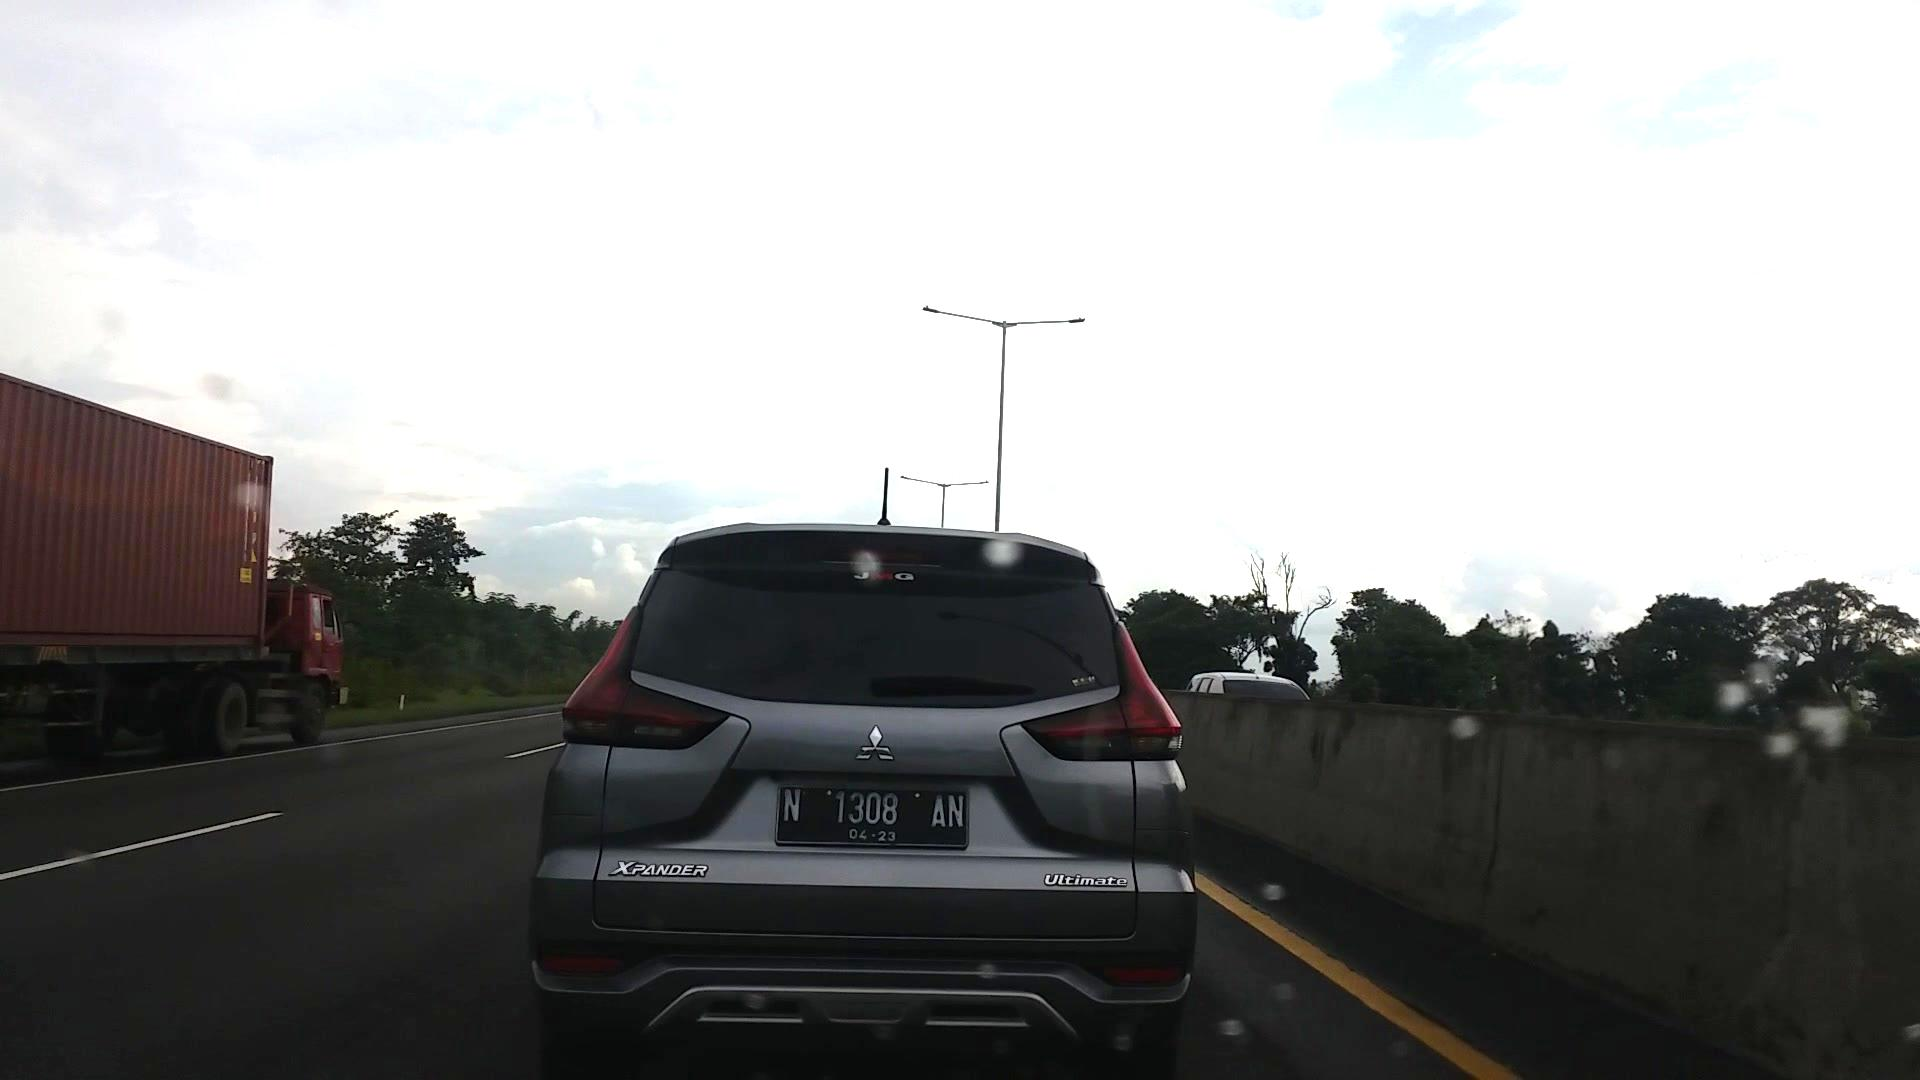plate_positive: (775, 785, 968, 849)
